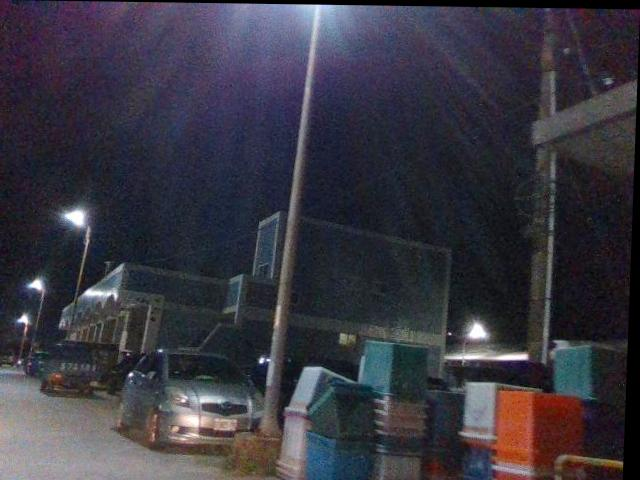pollute: (275, 335, 628, 480)
